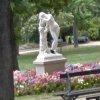Statue: (28, 5, 81, 79)
